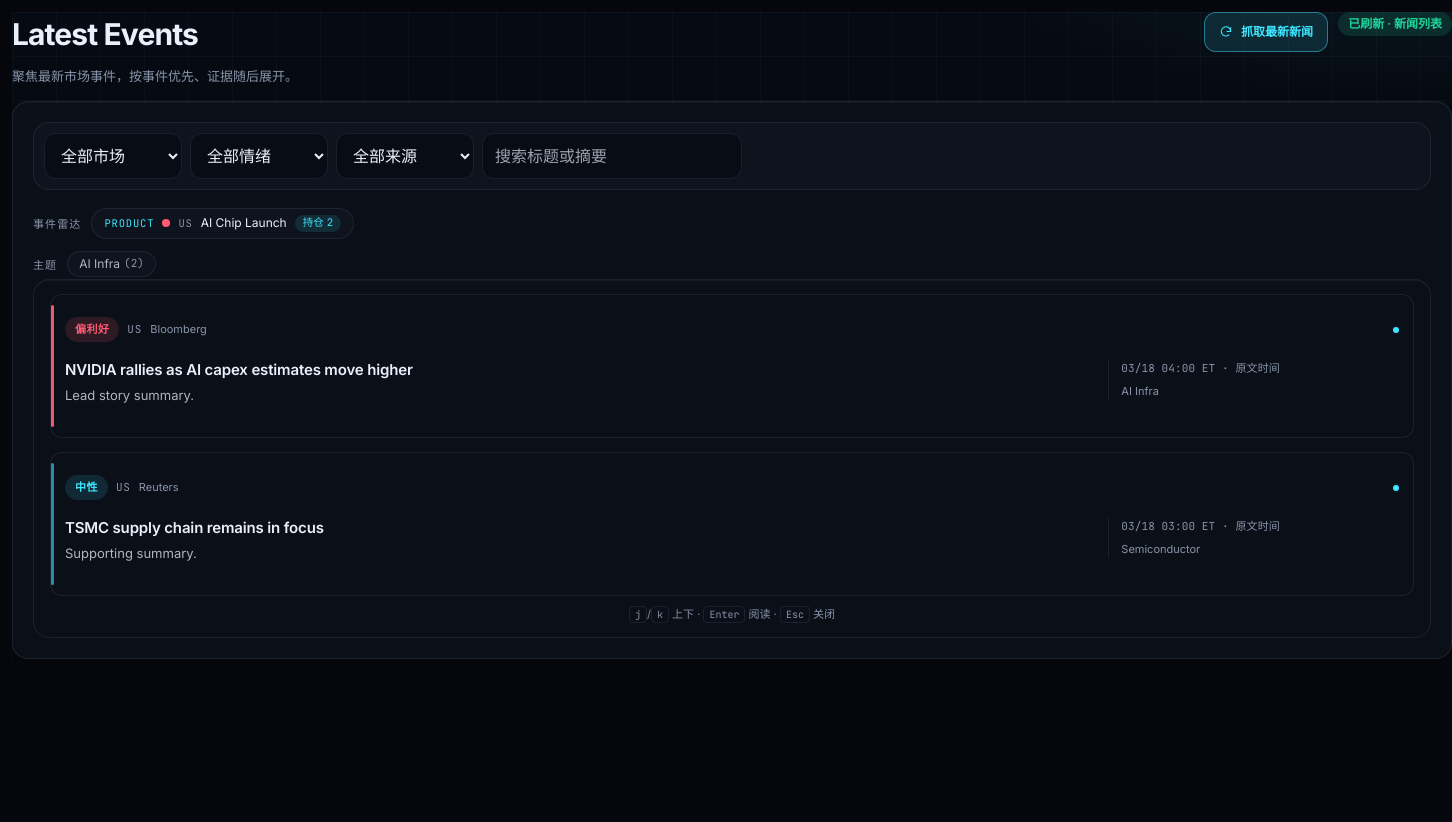
Test: NewsFeedView › applies active feed filters to topic watch as well
Select "偏利空" in the 2nd dropdown: x=259, y=156 [190,133,328,179]
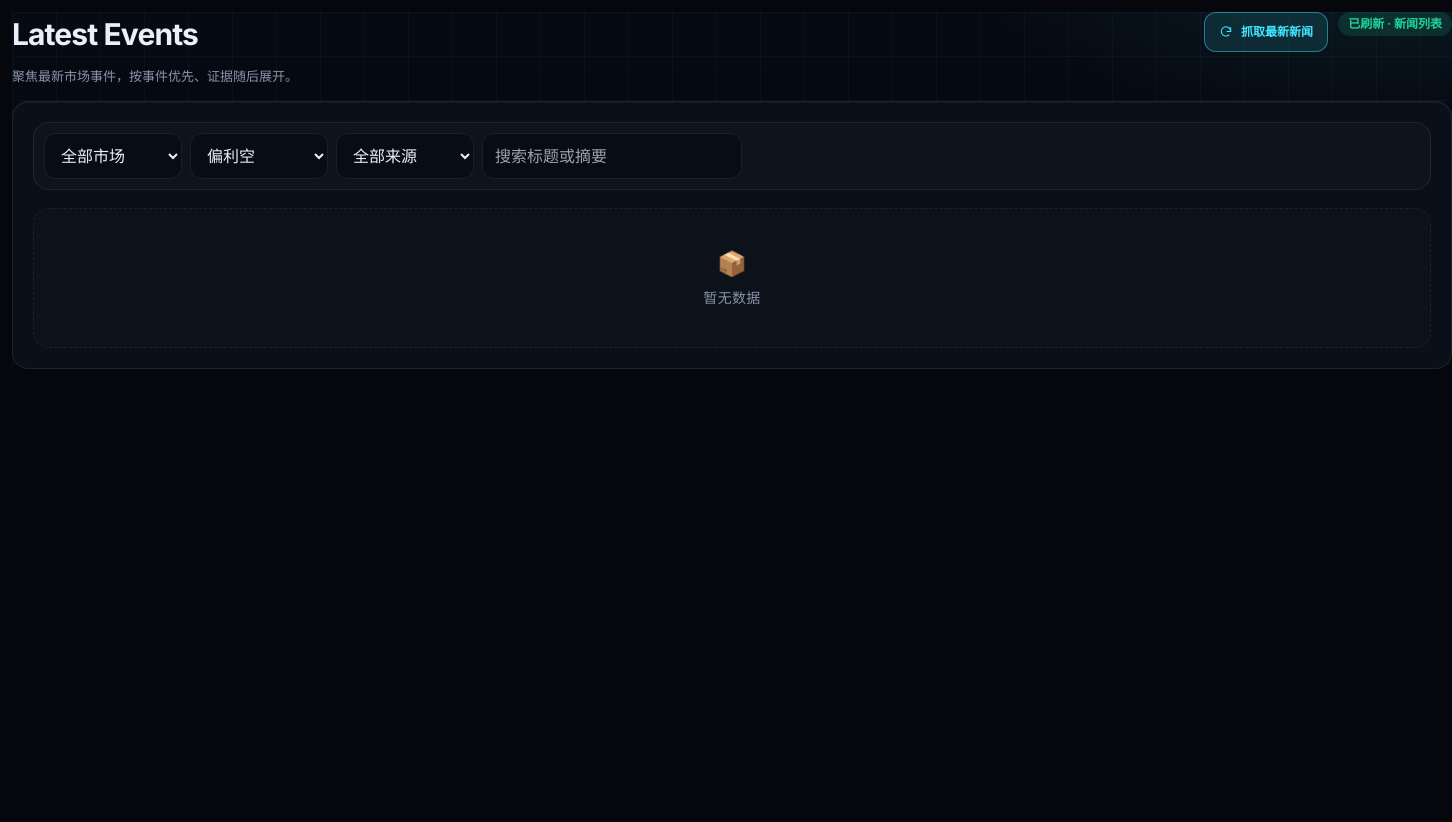
Now the text "AI Infra" is gone
